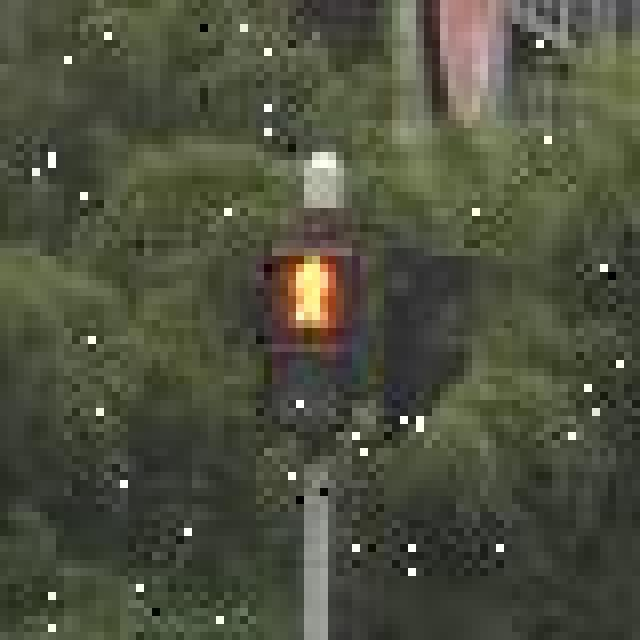redlight: (260, 243, 356, 437)
